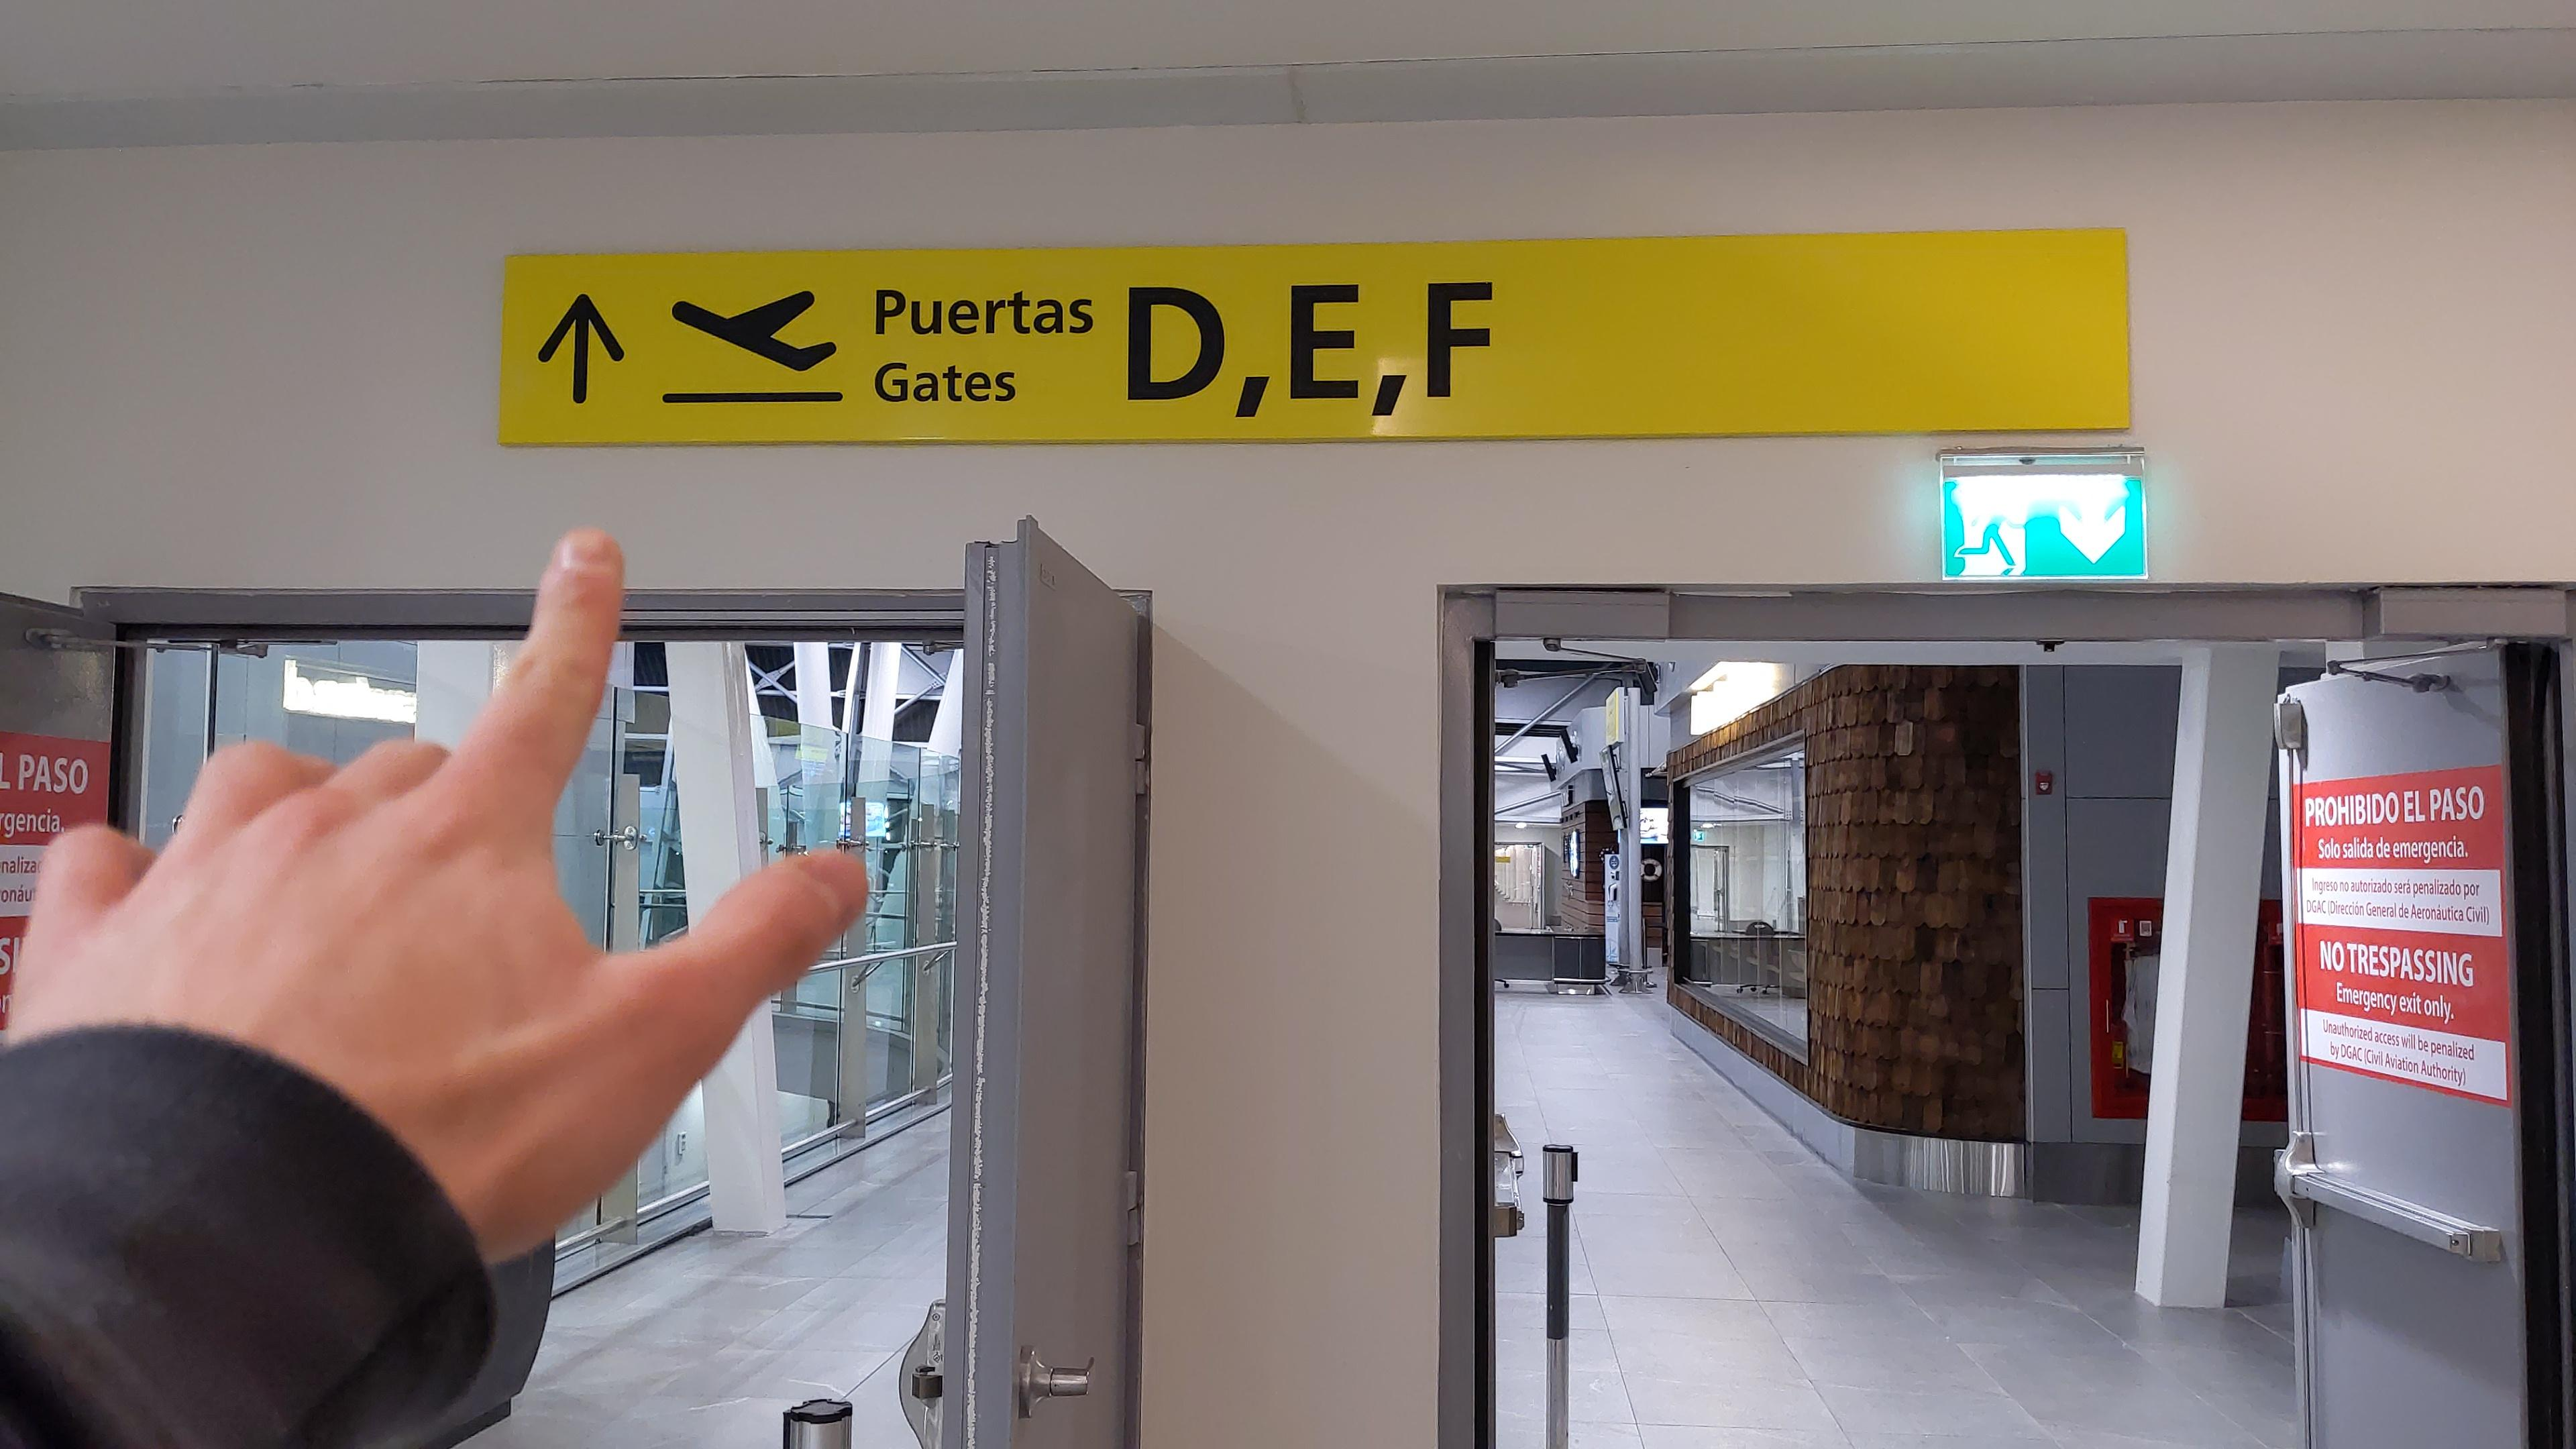airplane symbol: (669, 285, 842, 380)
emergency down arrow: (2056, 501, 2130, 568)
emergency exit: (1955, 510, 2031, 582)
extinguisher symbol: (2114, 918, 2128, 938)
no trespassing: (2291, 771, 2518, 1097)
thin up arrow: (533, 287, 625, 409)
